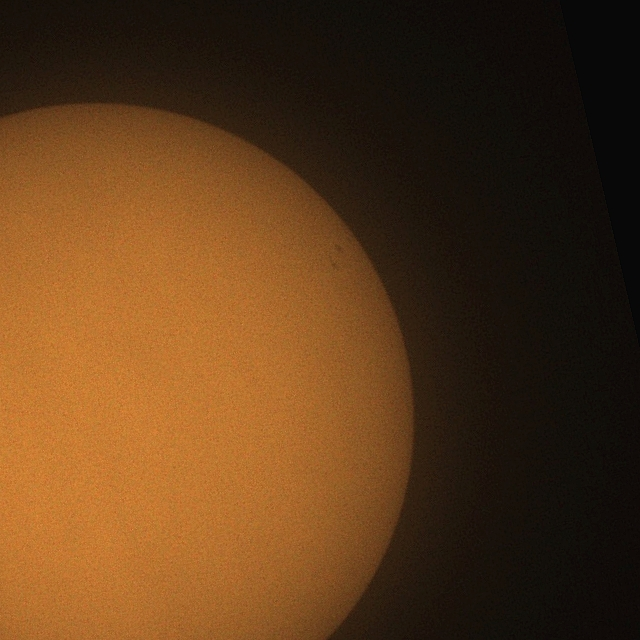sunspot: (328, 251, 346, 274), (332, 232, 347, 255)
